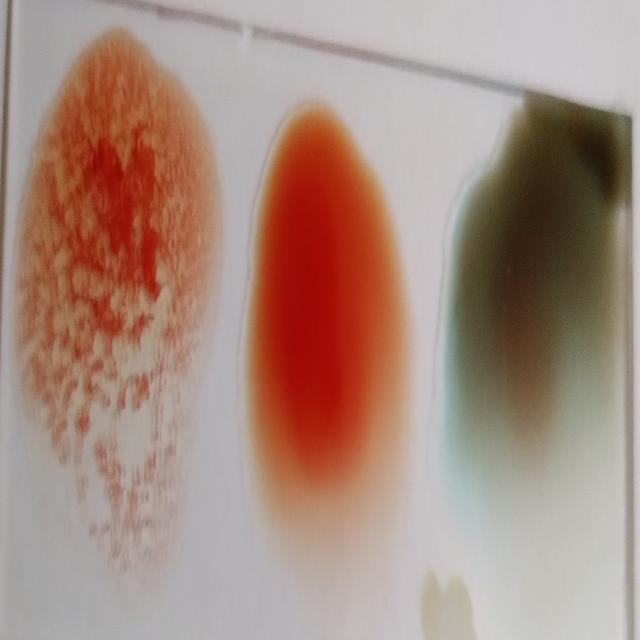D: (20, 38, 204, 520)
